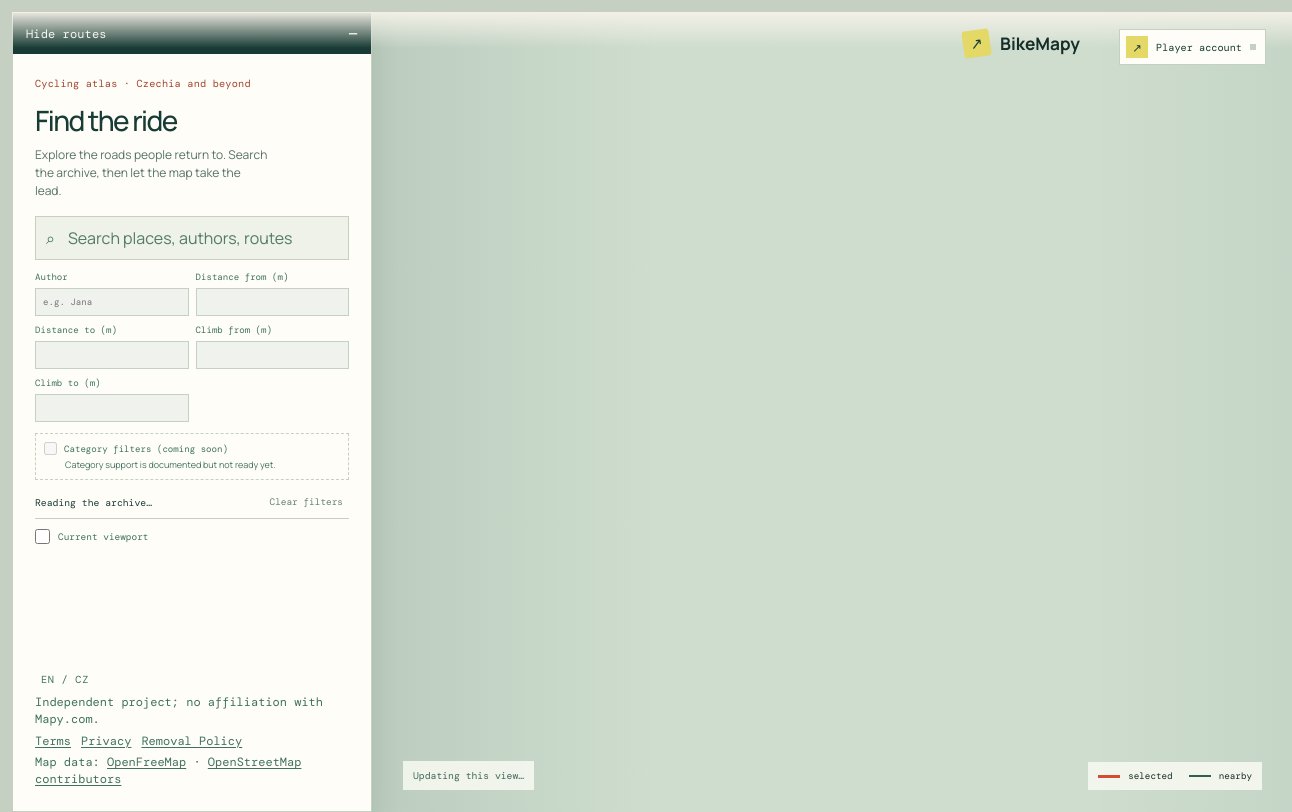
it: BikeMapy route discovery › debounces rapid catalogue filters and aborts superseded list and viewport requests
This screenshot has width=1292, height=812.
Step 1. Type "r" into the search field named "search routes" → (202, 238), box [66, 226, 338, 250]
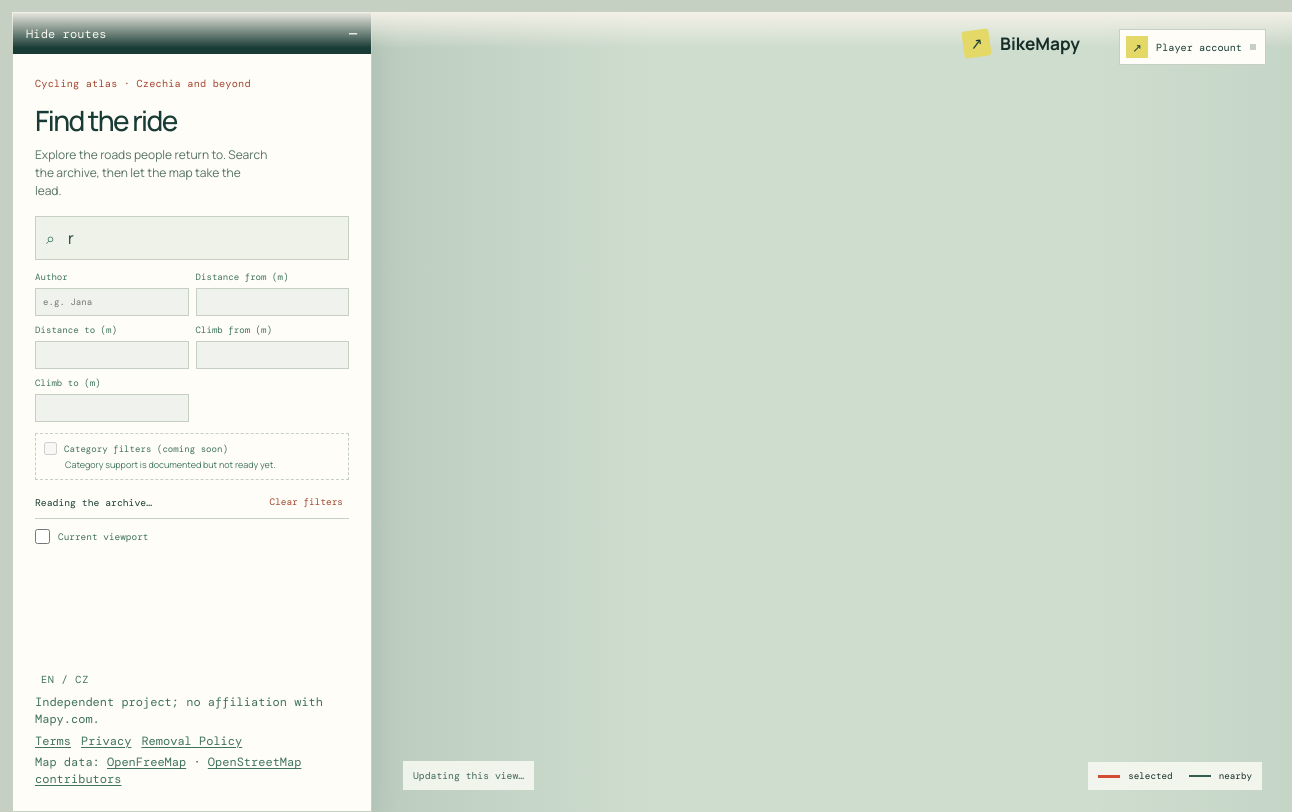
Step 2. Replace the text in the search field named "search routes" with "ridge" → (202, 238), box [66, 226, 338, 250]
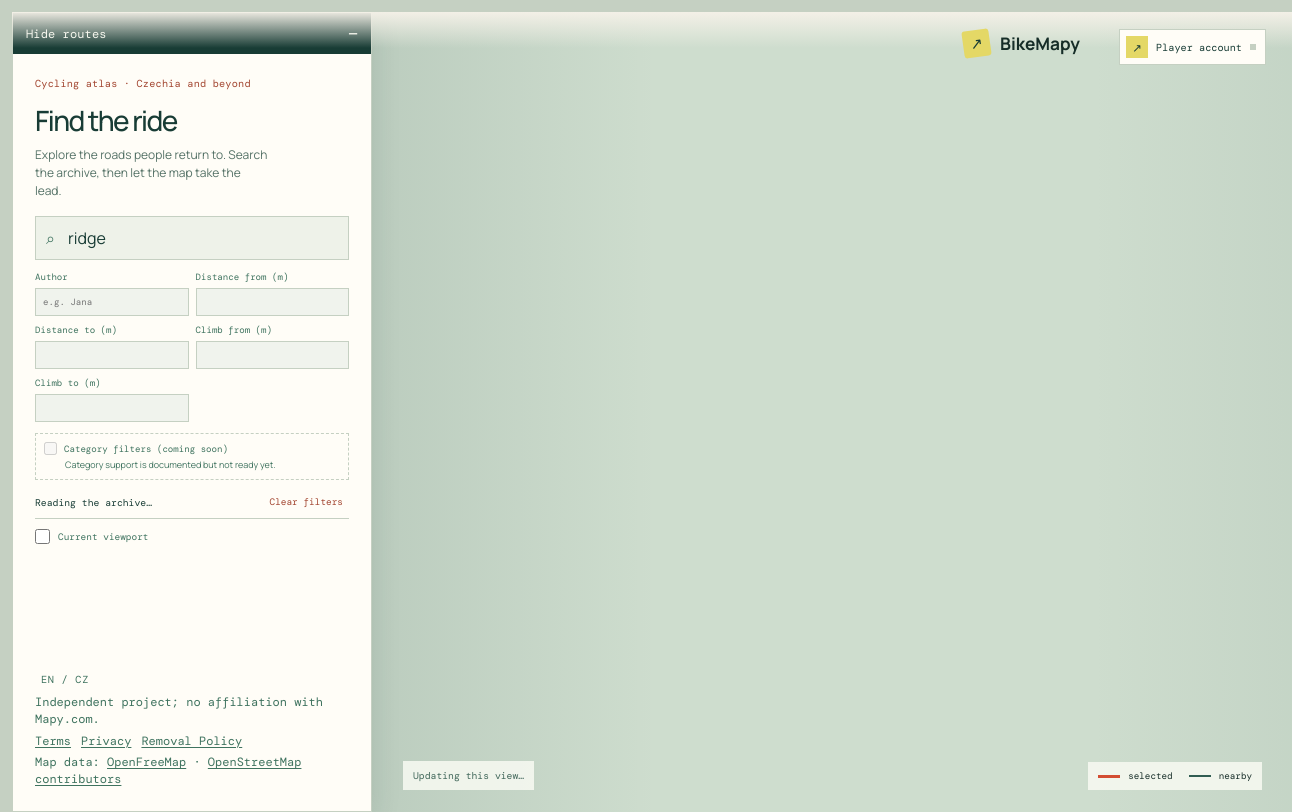
Step 3. Type "1" into the field labelled "Distance from (m)" → (272, 302), box [196, 288, 349, 316]
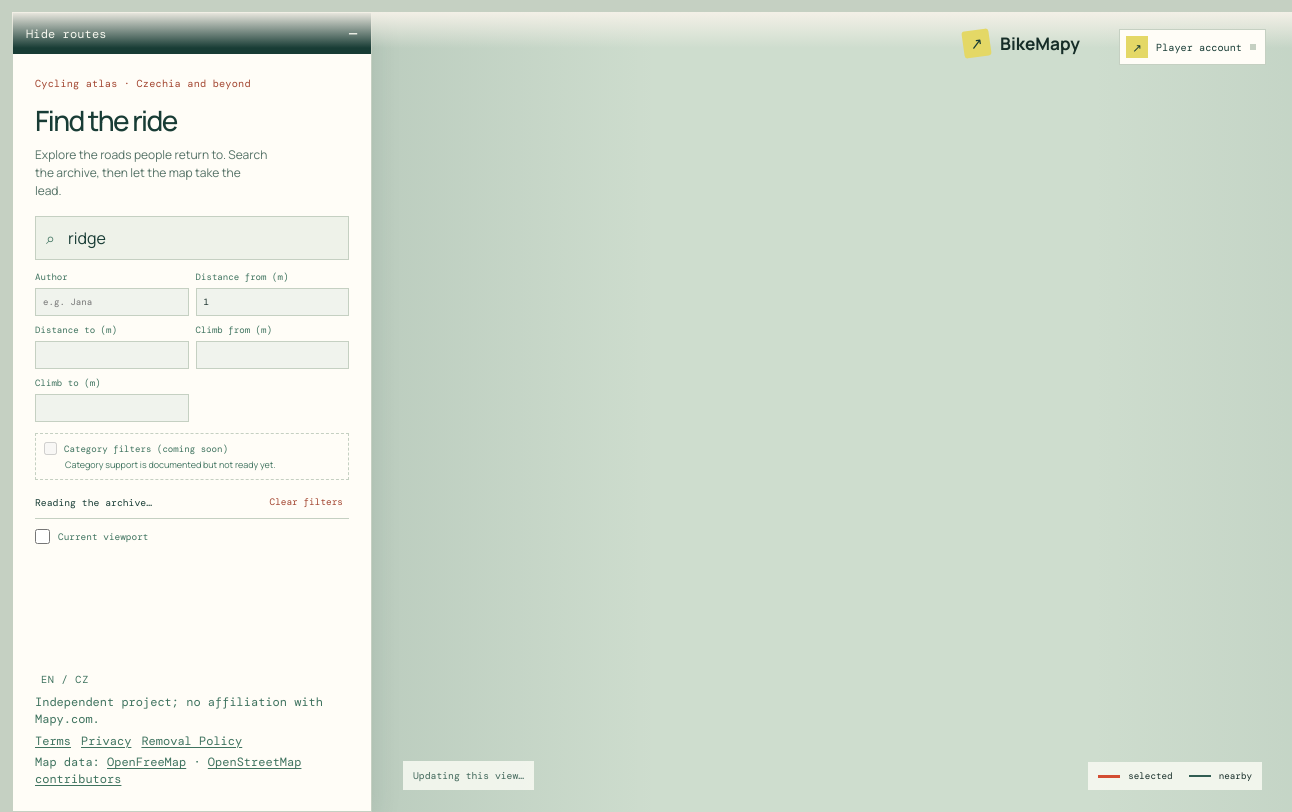
Step 4. Replace the text in the field labelled "Distance from (m)" with "1000" → (272, 302), box [196, 288, 349, 316]
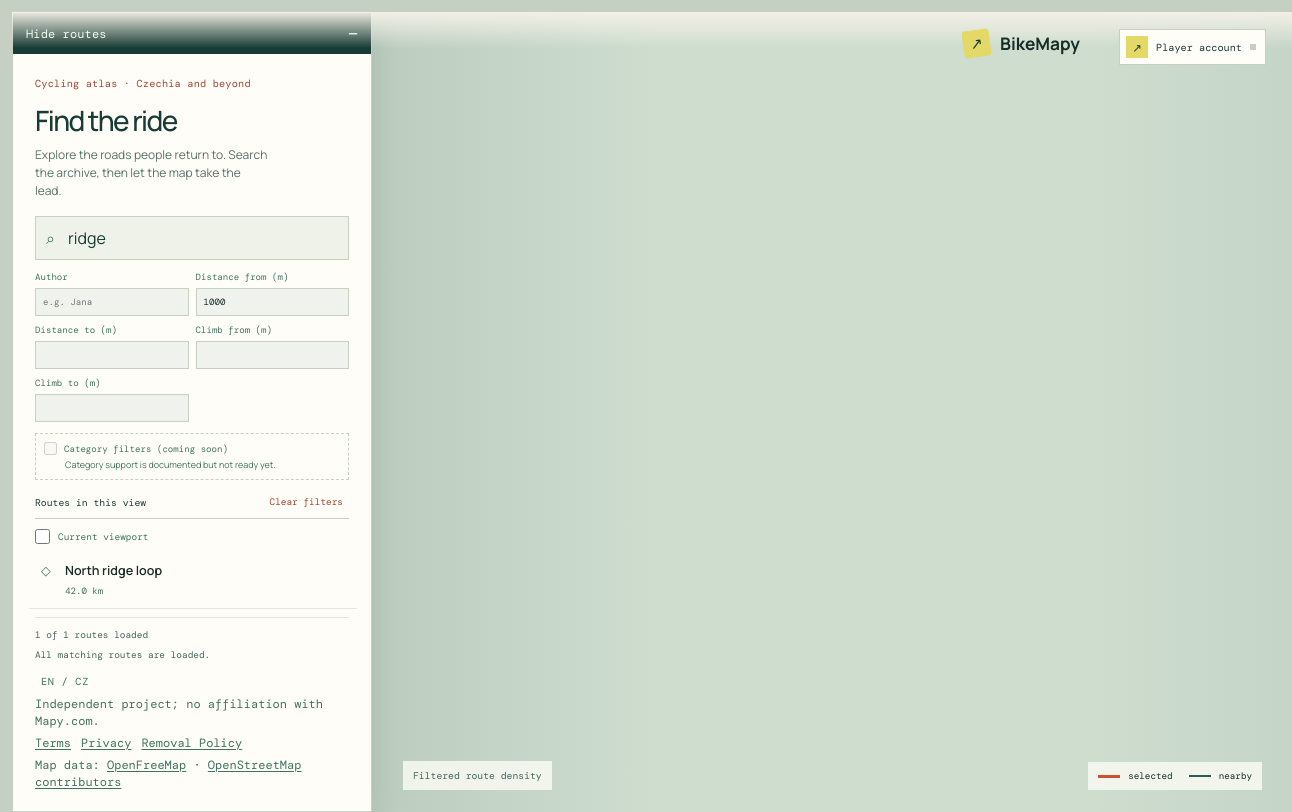
Now the button "◇ North ridge loop 42.0 km" is shown, box [27, 551, 357, 609]
